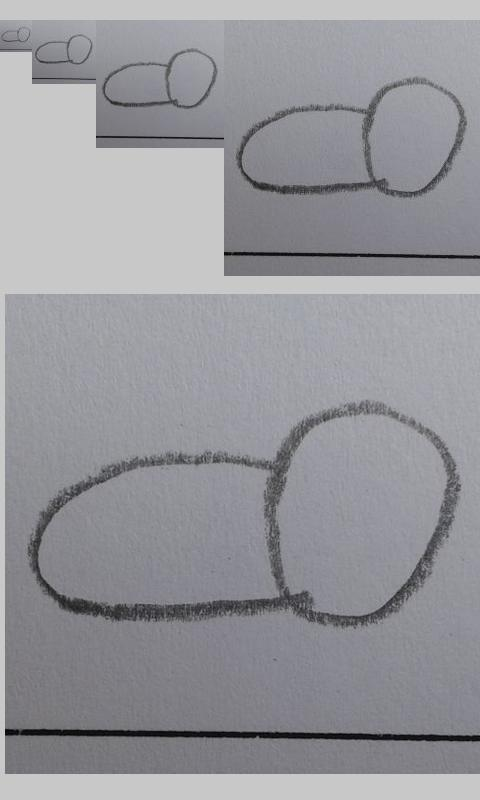switch: (23, 399, 463, 630), (235, 75, 468, 200), (102, 48, 218, 110), (34, 33, 93, 65), (1, 26, 30, 43)
